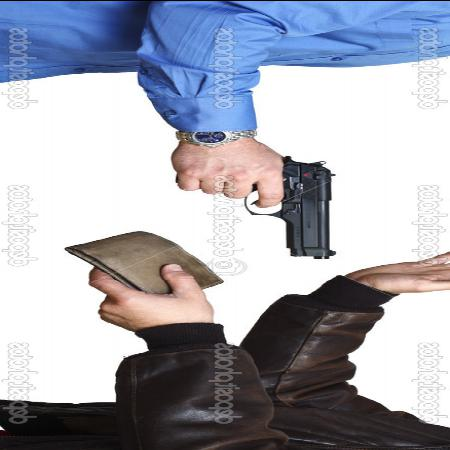Pistol: (166, 147, 344, 260)
